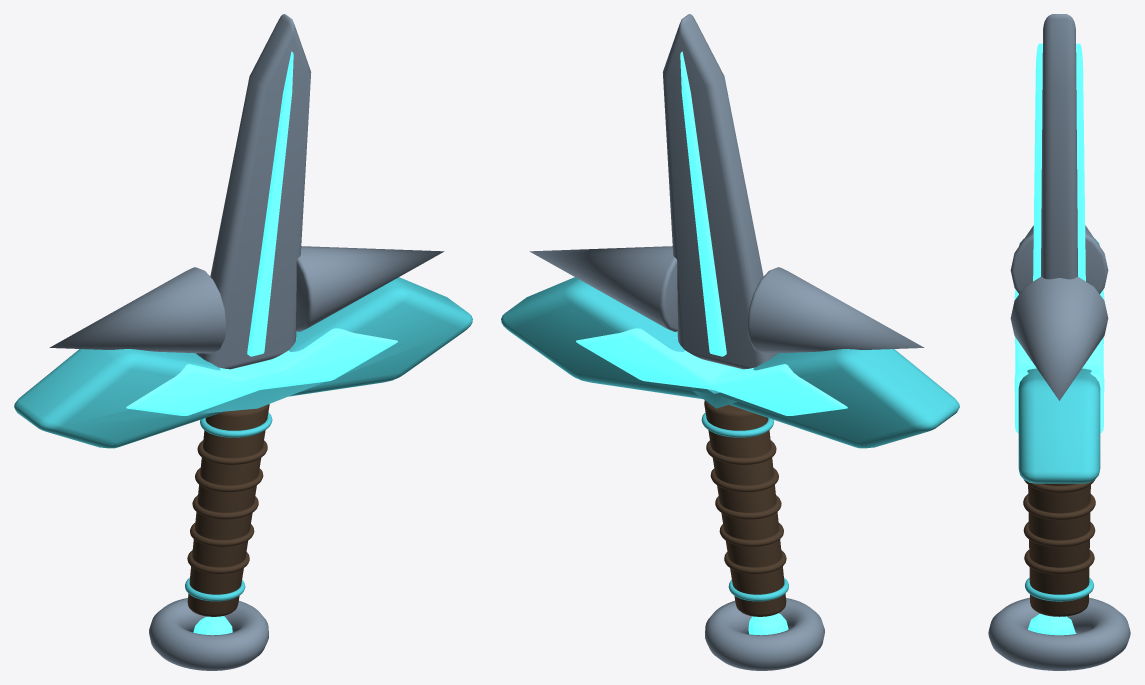
File: dagger_v7.glb
3 renders of one model, left to right at view 1: azimuth 30°, elevation 25°; view 2: azimuth 150°, elevation 25°; view 3: azimuth 270°, elevation 25°, orthographic. The views are drawn at different scales.
Parts seen in each view (by area): view 1: WINGED_GUARD_ACCENT, FACETED_BLADE_PRIMARY, GRIP_SECONDARY, GUARD_INLAY_EMISSIVE, BRUTAL_SPIKE_PRIMARY, BRUTAL_SPIKE_PRIMARY.001, RING_POMMEL_PRIMARY, BLADE_FULLER_EMISSIVE; view 2: WINGED_GUARD_ACCENT, FACETED_BLADE_PRIMARY, GRIP_SECONDARY, GUARD_INLAY_EMISSIVE, BRUTAL_SPIKE_PRIMARY, BRUTAL_SPIKE_PRIMARY.001, RING_POMMEL_PRIMARY, BLADE_FULLER_EMISSIVE, POMMEL_GEM_EMISSIVE; view 3: FACETED_BLADE_PRIMARY, WINGED_GUARD_ACCENT, BRUTAL_SPIKE_PRIMARY.001, RING_POMMEL_PRIMARY, GRIP_SECONDARY, BLADE_FULLER_EMISSIVE, BRUTAL_SPIKE_PRIMARY, GUARD_INLAY_EMISSIVE, POMMEL_GEM_EMISSIVE, GRIP_WRAP_SECONDARY.002, GRIP_WRAP_SECONDARY.001, GRIP_WRAP_SECONDARY (+2 smaller).
Boxes of the visible parts, x1,y1,x2,y2 form: WINGED_GUARD_ACCENT: (14,277,472,448); FACETED_BLADE_PRIMARY: (196,14,311,369); GRIP_SECONDARY: (187,404,269,616); GUARD_INLAY_EMISSIVE: (126,328,397,415); BRUTAL_SPIKE_PRIMARY: (49,267,226,353); BRUTAL_SPIKE_PRIMARY.001: (296,246,444,331); RING_POMMEL_PRIMARY: (149,598,268,670); BLADE_FULLER_EMISSIVE: (247,51,293,356); WINGED_GUARD_ACCENT: (501,277,959,448); FACETED_BLADE_PRIMARY: (662,14,777,369); GRIP_SECONDARY: (704,400,786,616); GUARD_INLAY_EMISSIVE: (576,328,847,415); BRUTAL_SPIKE_PRIMARY: (747,267,924,353); BRUTAL_SPIKE_PRIMARY.001: (529,246,678,331); RING_POMMEL_PRIMARY: (705,598,824,670); BLADE_FULLER_EMISSIVE: (680,51,726,356); POMMEL_GEM_EMISSIVE: (748,613,788,635); FACETED_BLADE_PRIMARY: (1041,14,1077,279); WINGED_GUARD_ACCENT: (1018,239,1100,483); BRUTAL_SPIKE_PRIMARY.001: (1010,277,1108,400); RING_POMMEL_PRIMARY: (988,597,1130,670); GRIP_SECONDARY: (1028,483,1090,616); BLADE_FULLER_EMISSIVE: (1033,43,1085,281); BRUTAL_SPIKE_PRIMARY: (1010,225,1108,293); GUARD_INLAY_EMISSIVE: (1014,289,1104,433); POMMEL_GEM_EMISSIVE: (1028,613,1075,635); GRIP_WRAP_SECONDARY.002: (1023,494,1095,520); GRIP_WRAP_SECONDARY.001: (1023,522,1095,547); GRIP_WRAP_SECONDARY: (1024,550,1094,574).
Size of the model in its own units: 2 by 2.72 by 0.5123.
